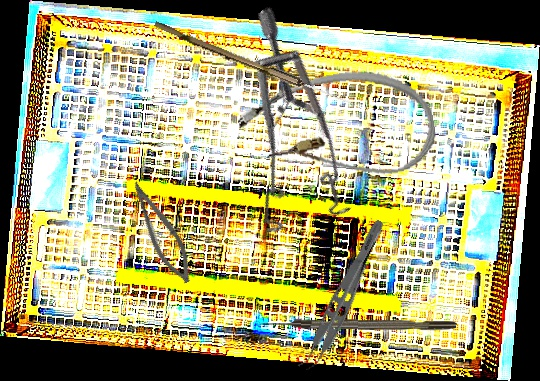Cannula: (233, 60, 441, 197)
Hook Surgical: (259, 317, 457, 332)
Micro Scissor: (118, 176, 203, 289)
Speculum: (156, 4, 402, 260)
Surgical Spoon: (152, 21, 355, 108)
Tissue Forceps: (293, 212, 389, 377)
